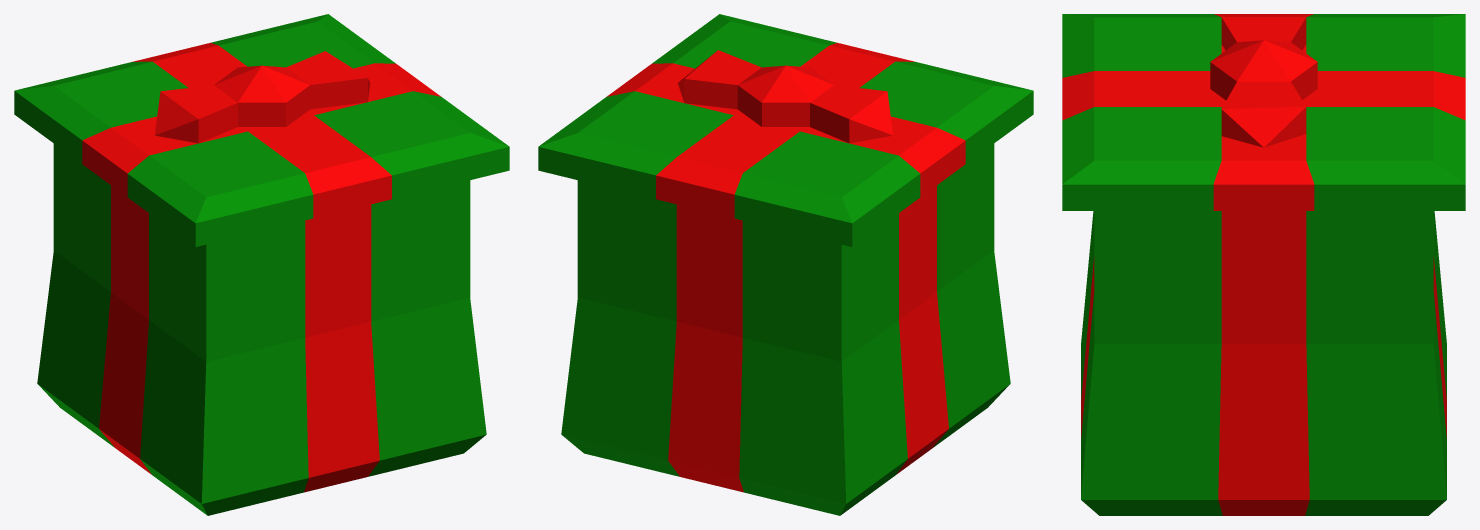
Rendered from Present.fbx.
3 renders of one model, left to right at view 1: azimuth 30°, elevation 25°; view 2: azimuth 150°, elevation 25°; view 3: azimuth 270°, elevation 25°, orthographic. The views are drawn at different scales.
Parts seen in each view (by area): view 1: Present; view 2: Present; view 3: Present.
Boxes of the visible parts, x1,y1,x2,y2 form: Present: [14, 14, 509, 515]; Present: [538, 14, 1033, 515]; Present: [1062, 14, 1465, 515].
Bounding box in the file's own units: 67.6 × 75.06 × 67.6.
